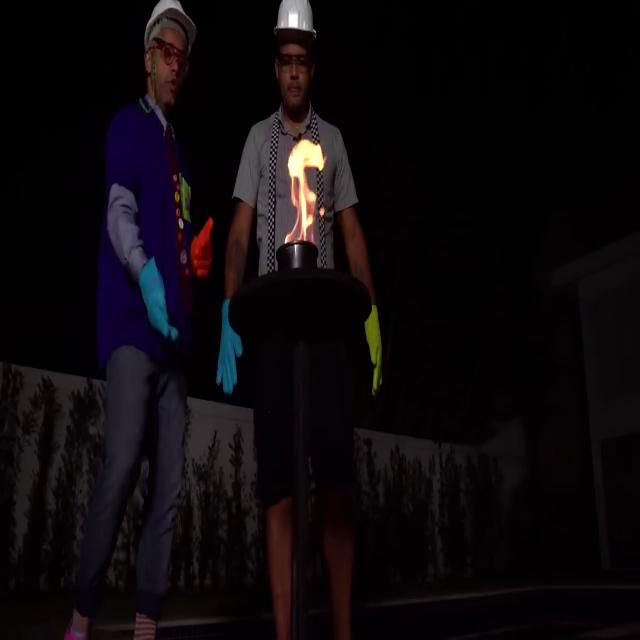fire: (282, 138, 327, 253)
